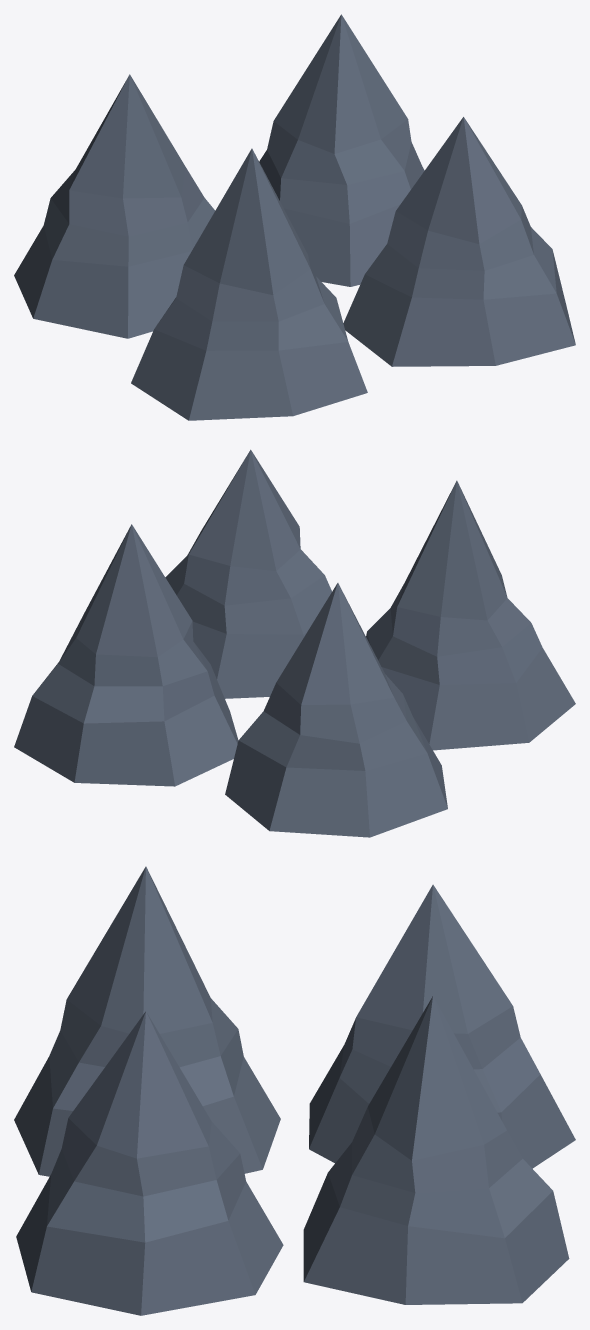
File: iceSpikes.fbx
The picture shows the model from 3 angles, top to bottom: view 1: azimuth 30°, elevation 25°; view 2: azimuth 150°, elevation 25°; view 3: azimuth 270°, elevation 25°; orthographic projection. The views are drawn at different scales.
Parts seen in each view (by area): view 1: rockSpikes; view 2: rockSpikes; view 3: rockSpikes.
Part boxes in pixels (x1,y1,x2,y2): rockSpikes: [14, 14, 575, 420]; rockSpikes: [14, 449, 575, 837]; rockSpikes: [14, 866, 575, 1315].
Size of the model in its own units: 197 by 104 by 196.
